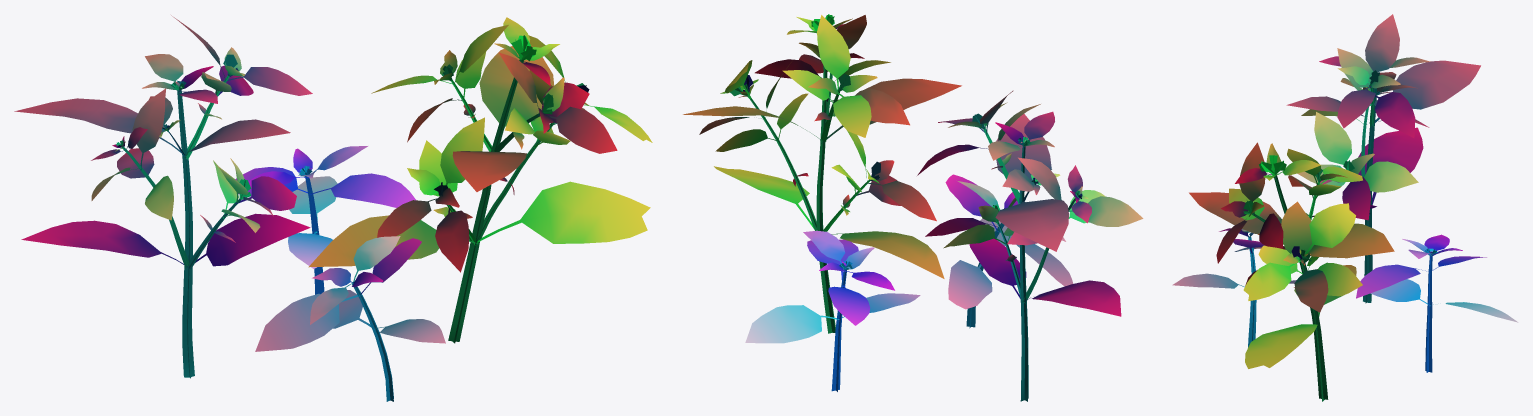
Rendered from Common_Hemp_Nettle_xh1kdfbqx_Mid_xh1kdfbqx_VarF_LOD0.fbx.
The picture shows the model from 3 angles, left to right: view 1: azimuth 30°, elevation 25°; view 2: azimuth 150°, elevation 25°; view 3: azimuth 270°, elevation 25°; orthographic projection. The views are drawn at different scales.
Visible parts, largest first — view 1: _q4qy_VarF_LOD1; view 2: _q4qy_VarF_LOD1; view 3: _q4qy_VarF_LOD1.
Boxes of the visible parts, box(x1,y1,x2,y2) form: _q4qy_VarF_LOD1: box(14, 15, 652, 401); _q4qy_VarF_LOD1: box(683, 14, 1143, 401); _q4qy_VarF_LOD1: box(1172, 14, 1518, 401).
Bounding box in the file's own units: 132 × 83.65 × 90.66.
